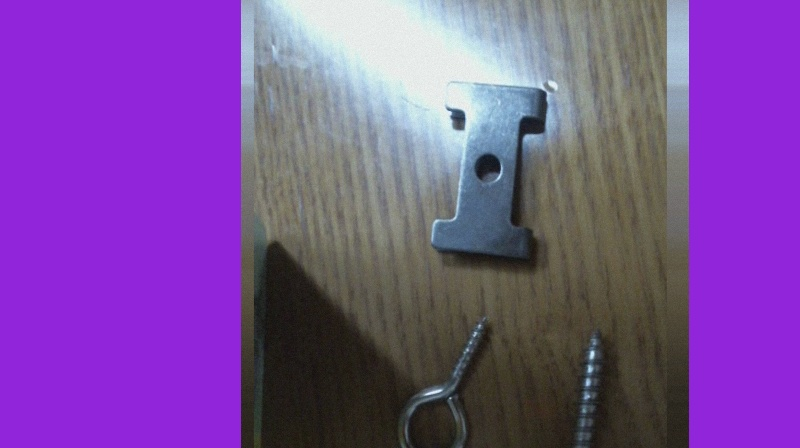O001: (395, 313, 492, 447)
O002: (427, 79, 547, 263)
S001: (541, 324, 607, 447)
